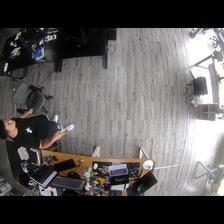normal: (3, 111, 79, 152)
